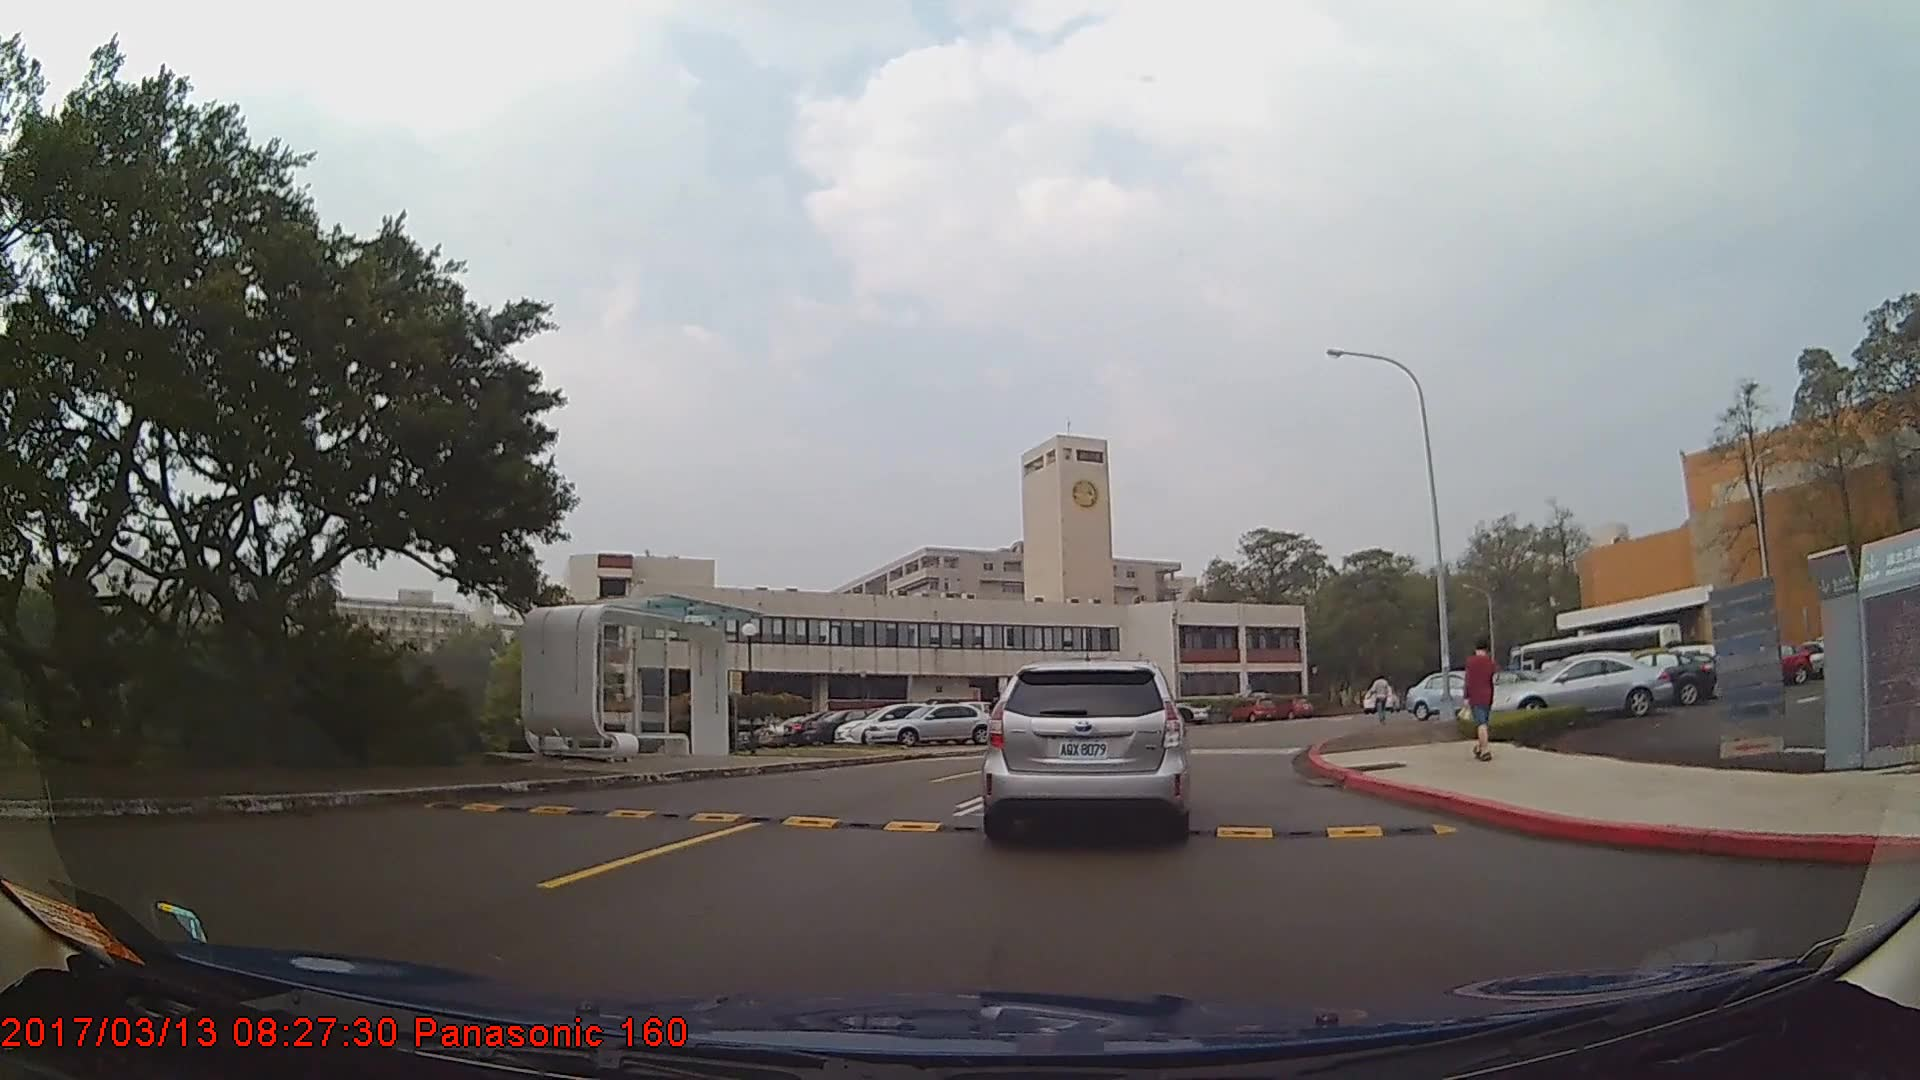pedestrian: (1465, 634, 1502, 763), (1370, 671, 1397, 727)
vehicle: (985, 657, 1187, 842), (1484, 652, 1675, 719), (1612, 650, 1717, 706), (861, 701, 990, 744), (1404, 671, 1495, 721)
